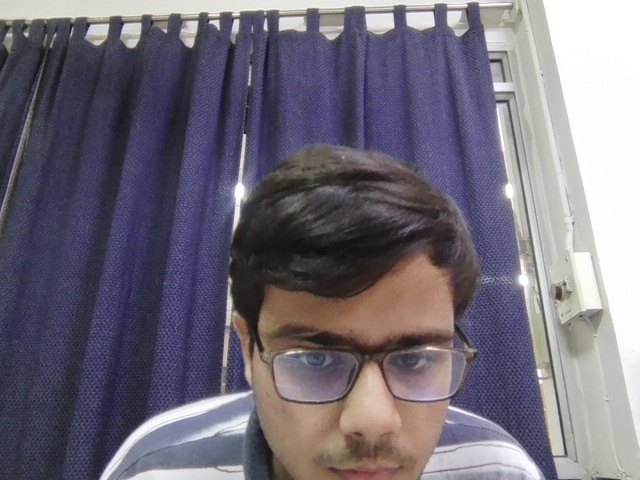face: (231, 141, 476, 480)
